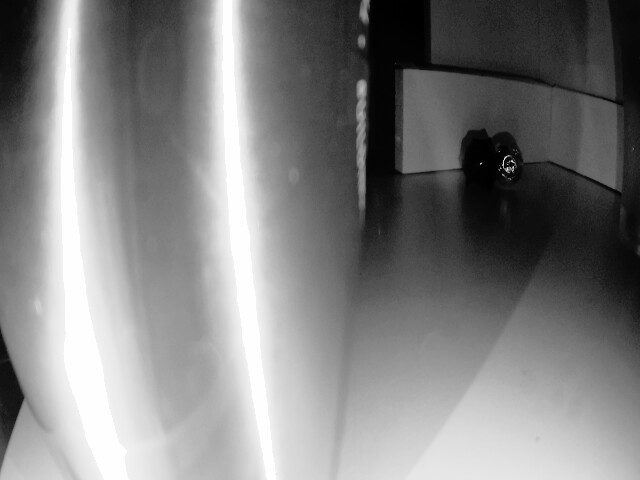black: (463, 132, 497, 189)
silver: (498, 142, 525, 179)
